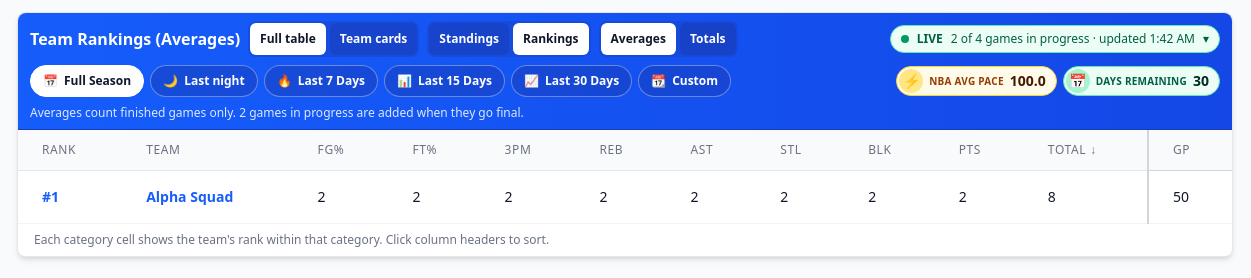
Test: Rankings live badge (desktop) › explains what averages and totals count
The width and height of the screenshot is (1251, 278).
Expected: the text "Averages count finished games only" is shown, [30,104,524,121]
Click the button "Totals" at (708, 39), box [680,23,736,55]
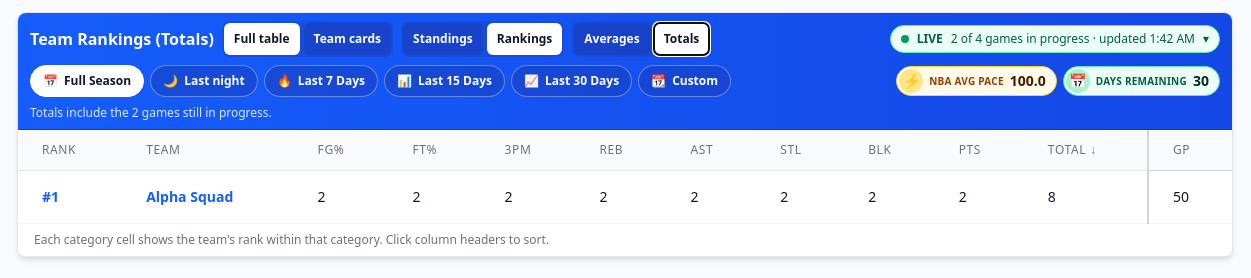
Result: the text "Totals include the 2 games still in progress." is shown at [30,104,272,121]
